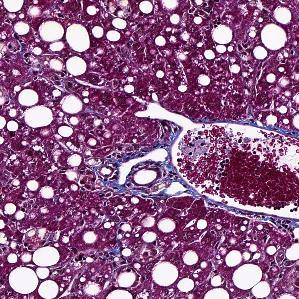fibrosis: (108, 172, 187, 207)
